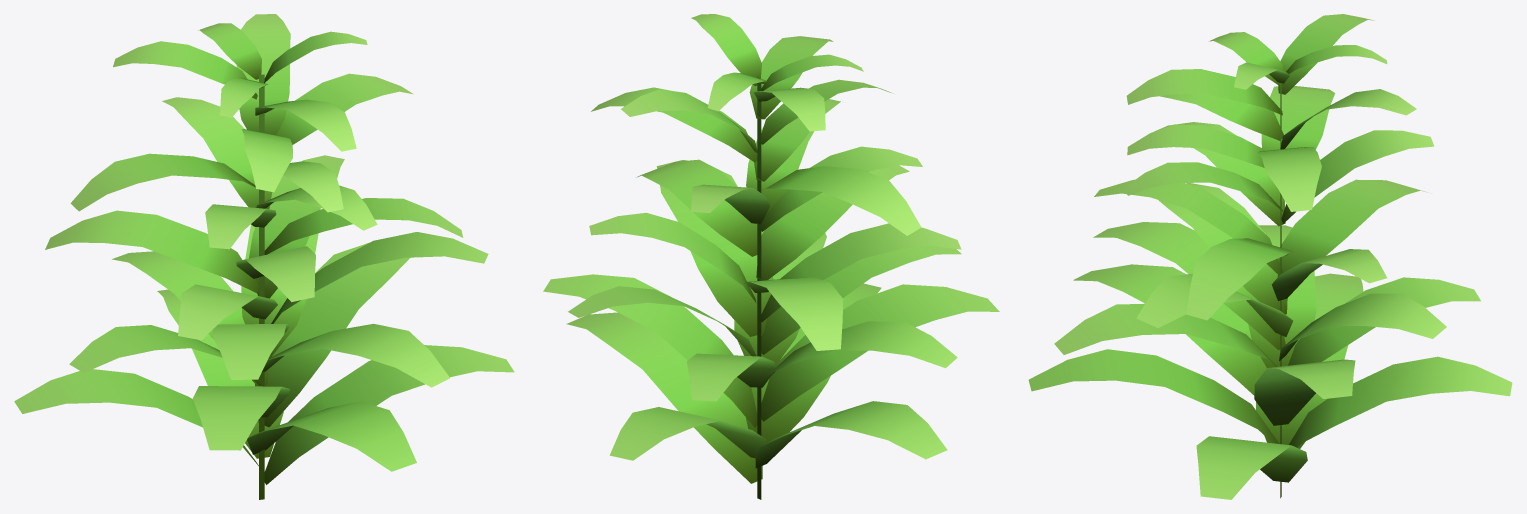
File: plant_001.fbx
3 views of the same model, side by side, from view 1: azimuth 30°, elevation 25°; view 2: azimuth 150°, elevation 25°; view 3: azimuth 270°, elevation 25° (orthographic).
Parts seen in each view (by area): view 1: plant.001; view 2: plant.001; view 3: plant.001.
Boxes of the visible parts, x1,y1,x2,y2 form: plant.001: (14, 14, 514, 499); plant.001: (543, 14, 999, 499); plant.001: (1028, 14, 1512, 499).
Size of the model in its own units: 49.6 by 49.94 by 47.99.
